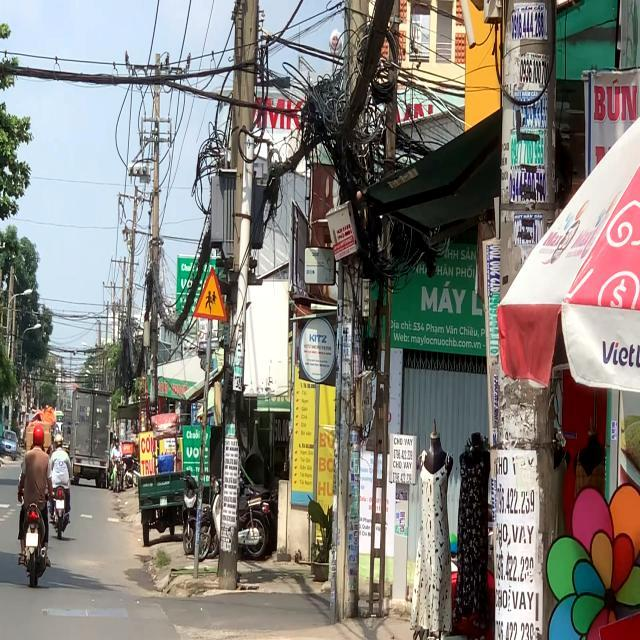Tre em: (192, 266, 228, 323)
